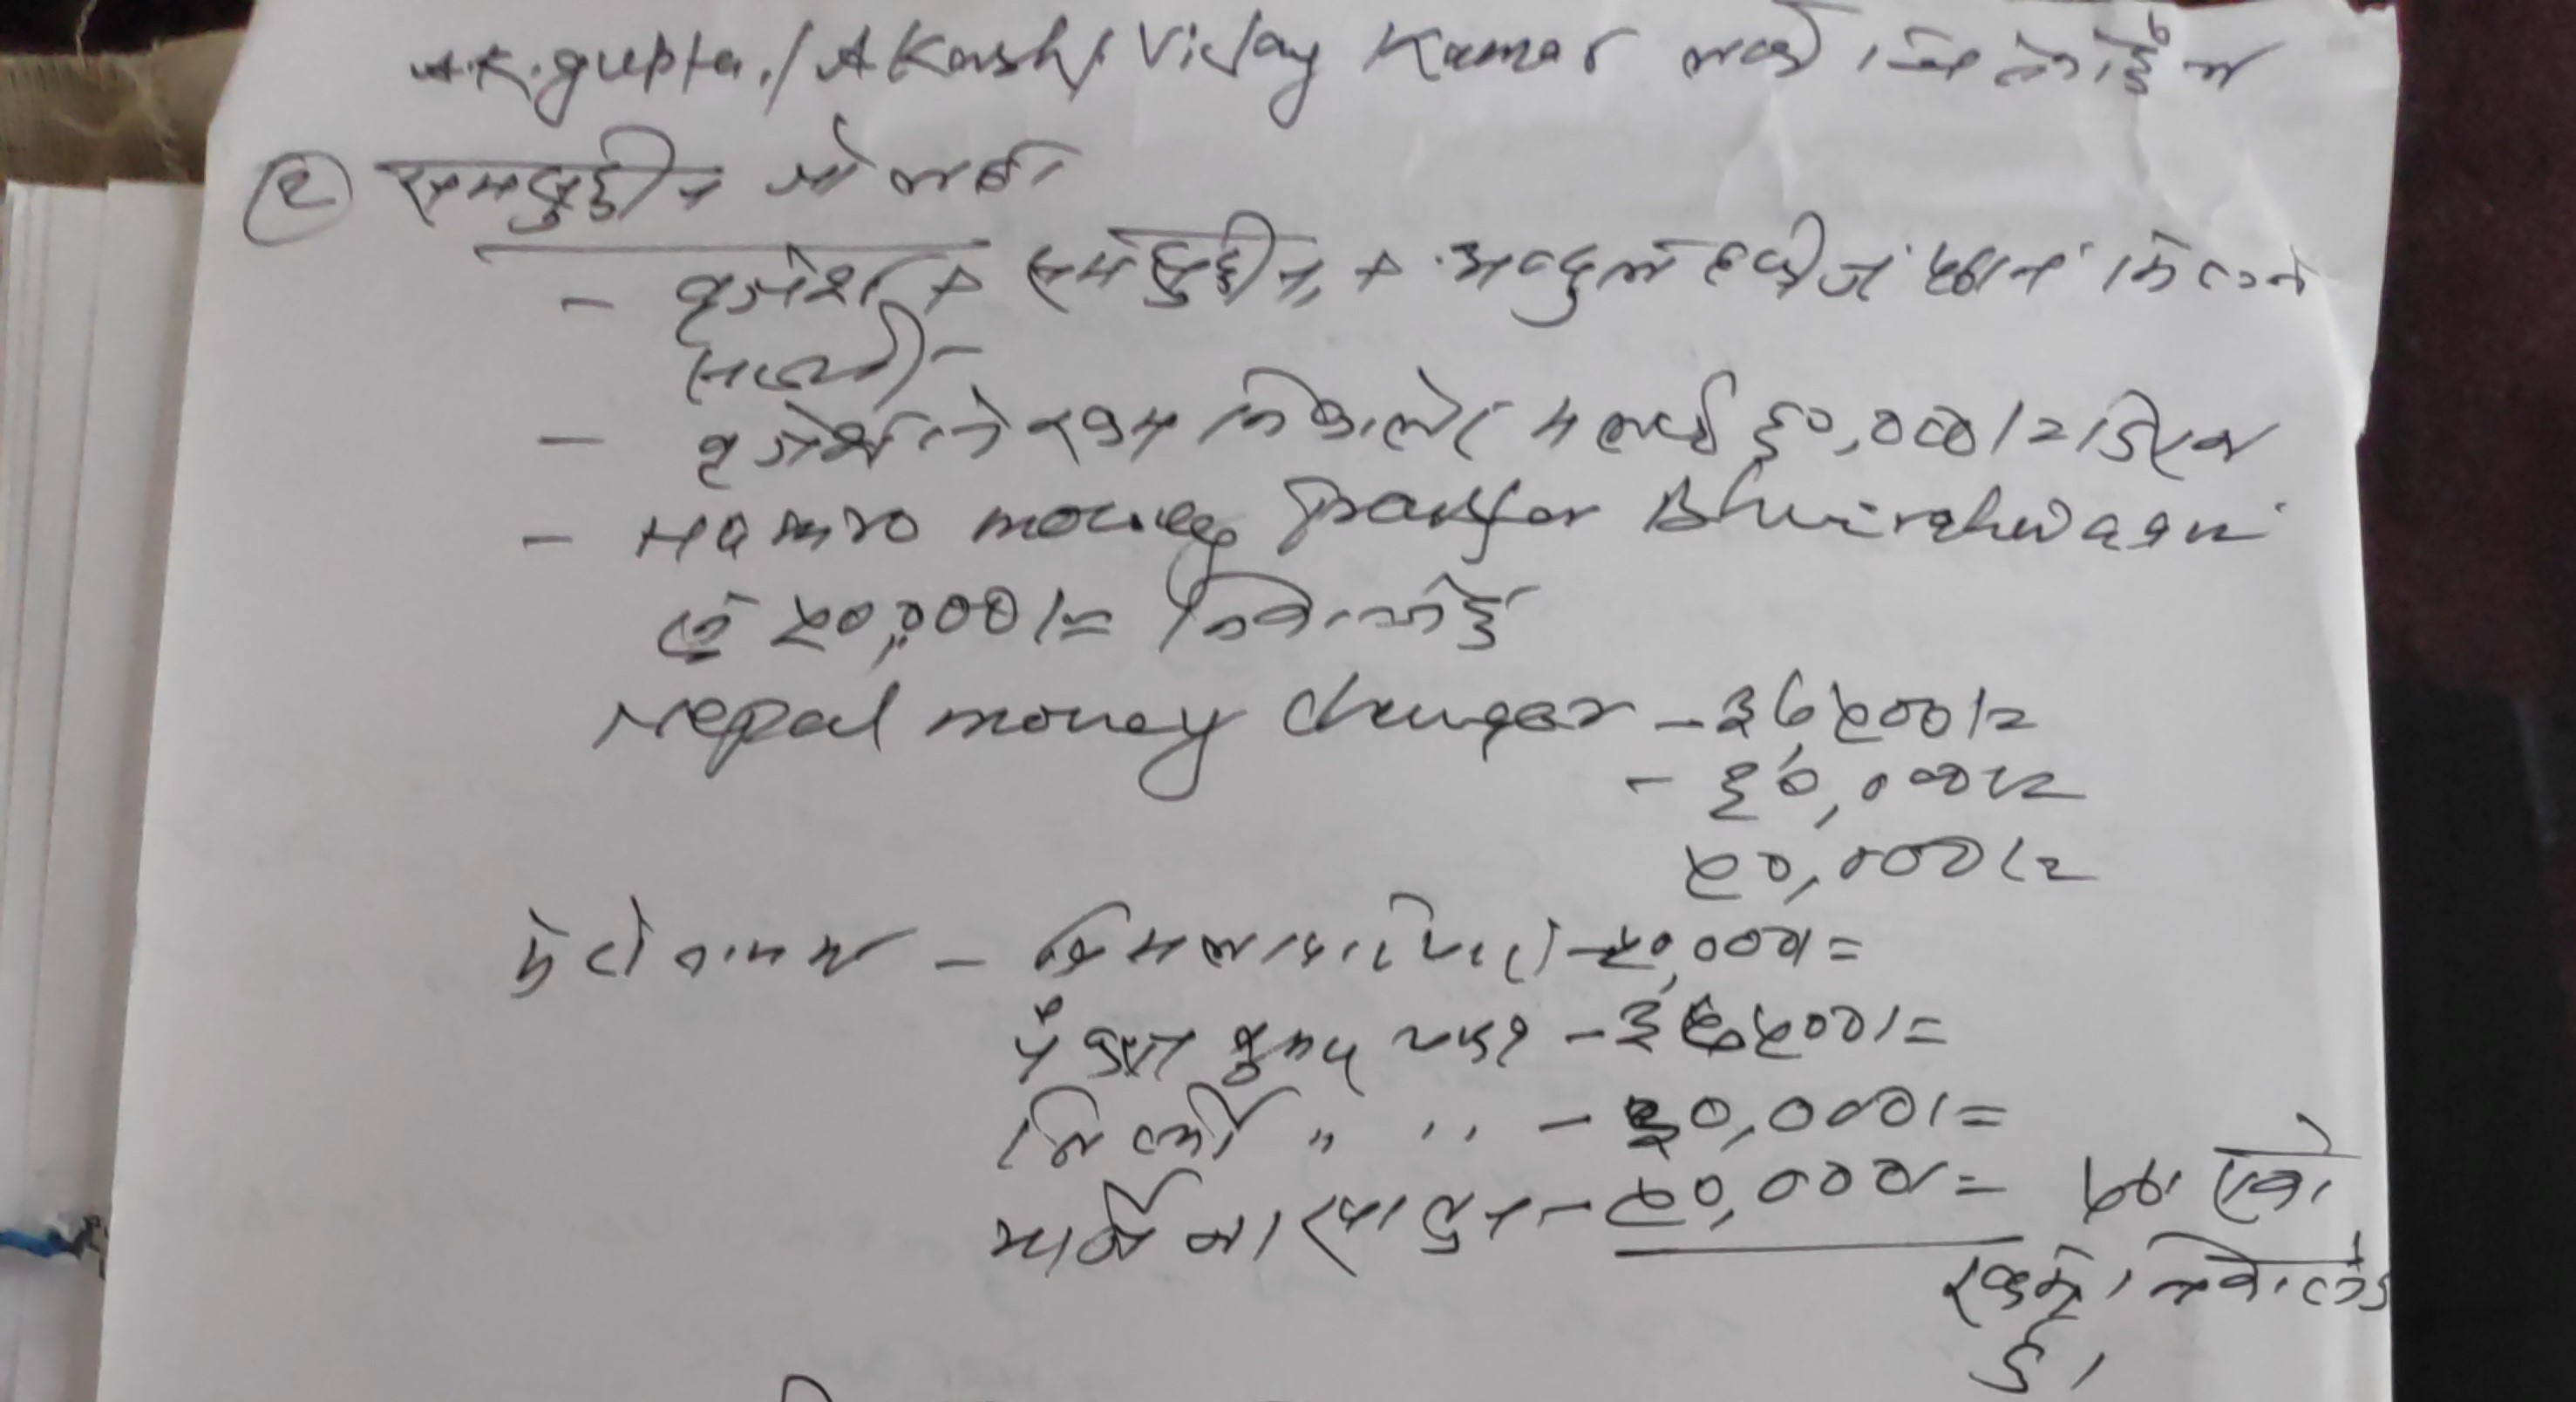text: (687, 390, 1178, 489), (1444, 209, 1825, 328), (368, 119, 732, 240), (982, 1164, 1284, 1283), (1021, 205, 1334, 316), (1197, 357, 1513, 461), (764, 107, 1077, 211), (1289, 1178, 1539, 1288), (1734, 387, 1988, 473), (671, 245, 885, 342), (1919, 230, 2058, 307)
